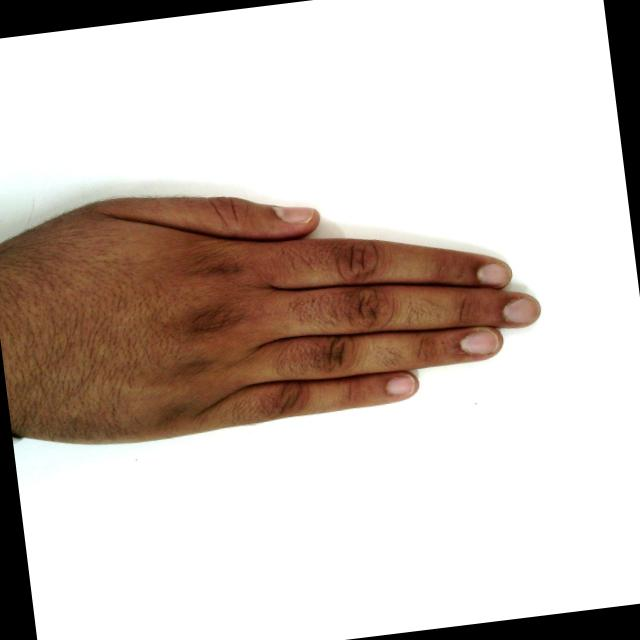Nail: (503, 295, 540, 324), (460, 328, 500, 353), (477, 261, 511, 286), (272, 204, 313, 222), (385, 372, 416, 394)
